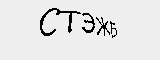Б: (109, 21, 121, 39)
Ж: (94, 16, 110, 37)
С: (38, 7, 59, 36)
Т: (58, 8, 77, 34)
Э: (81, 9, 94, 35)
